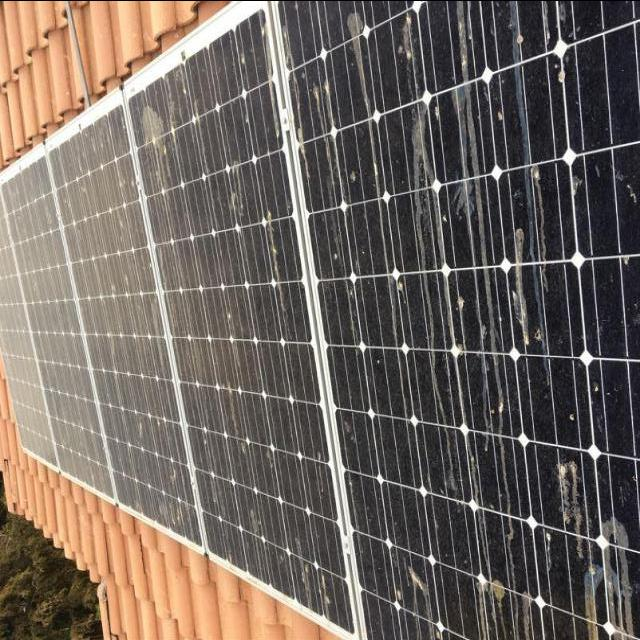soiled: (275, 0, 639, 631), (123, 0, 354, 625), (48, 59, 200, 626), (3, 118, 112, 612)
